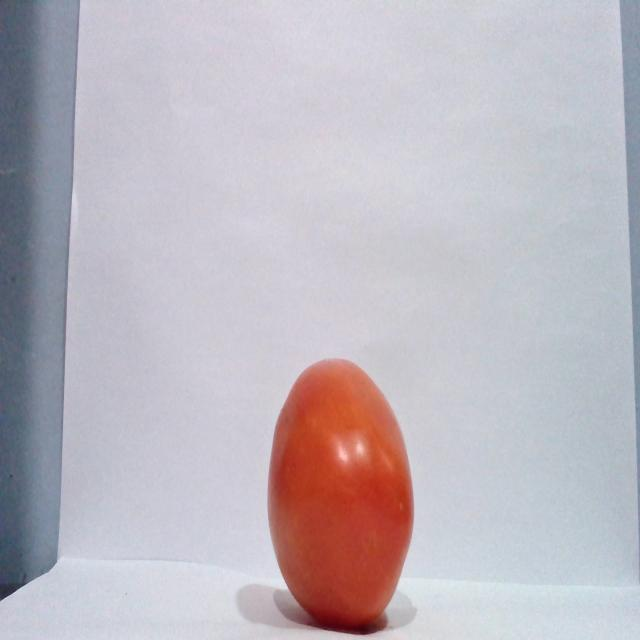Red: (265, 356, 415, 630)
